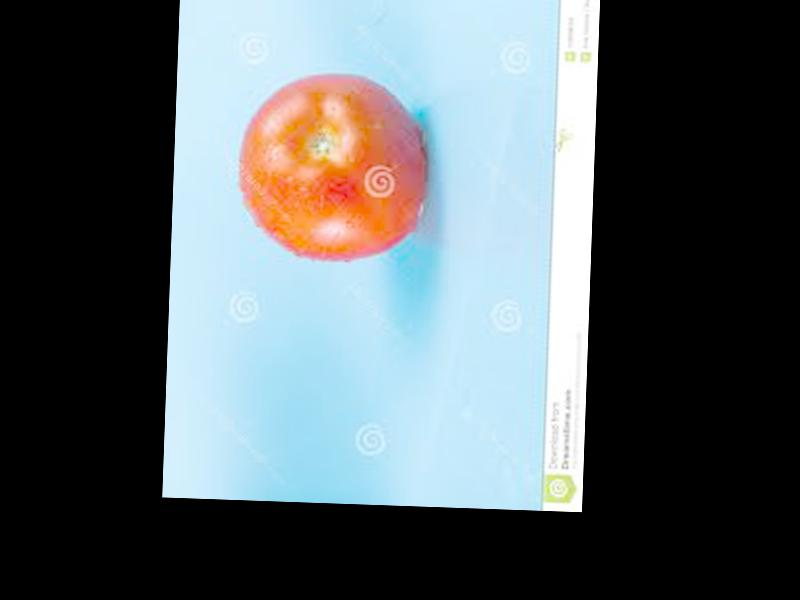Tomato: (236, 67, 427, 264)
